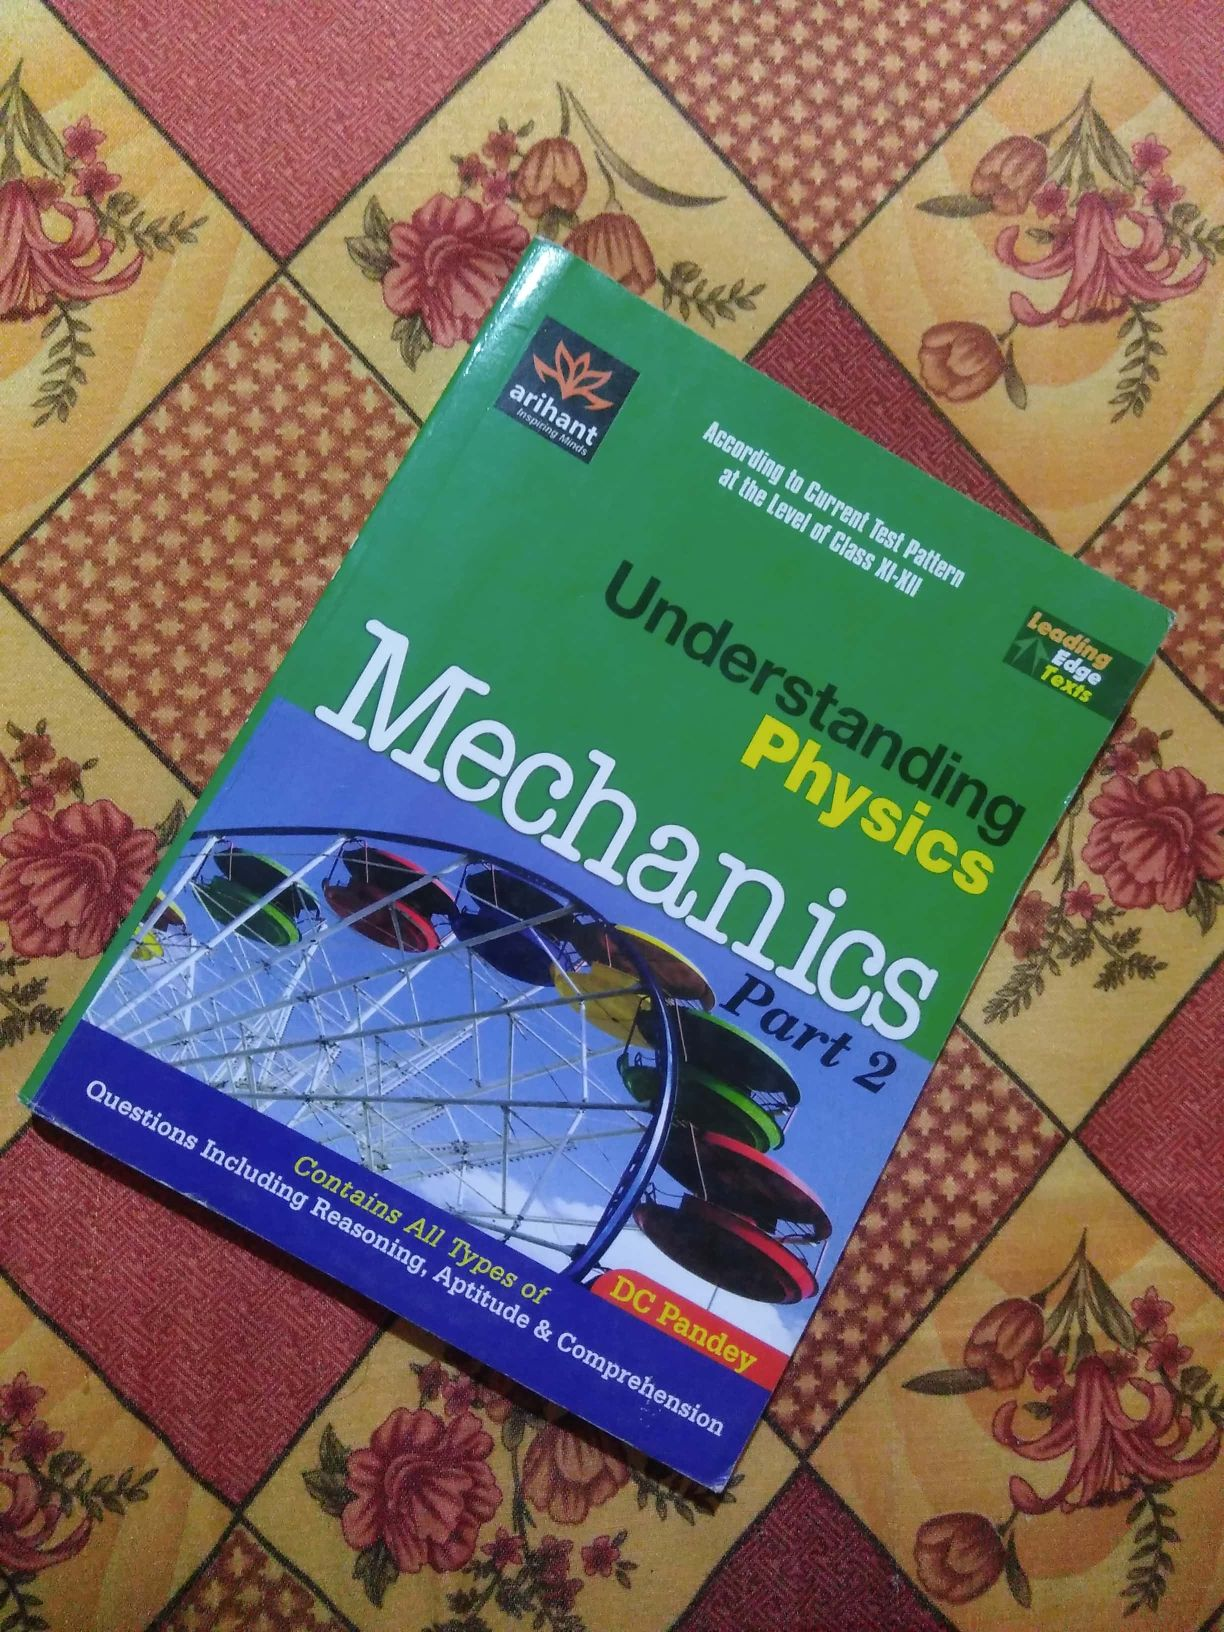mechanics: (63, 239, 1115, 1486)
